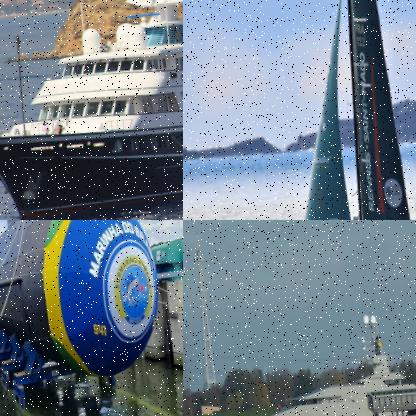Sails Boat: (237, 0, 415, 219)
Submarine: (0, 220, 166, 389)
Yacht: (0, 0, 182, 219), (199, 302, 415, 415)
